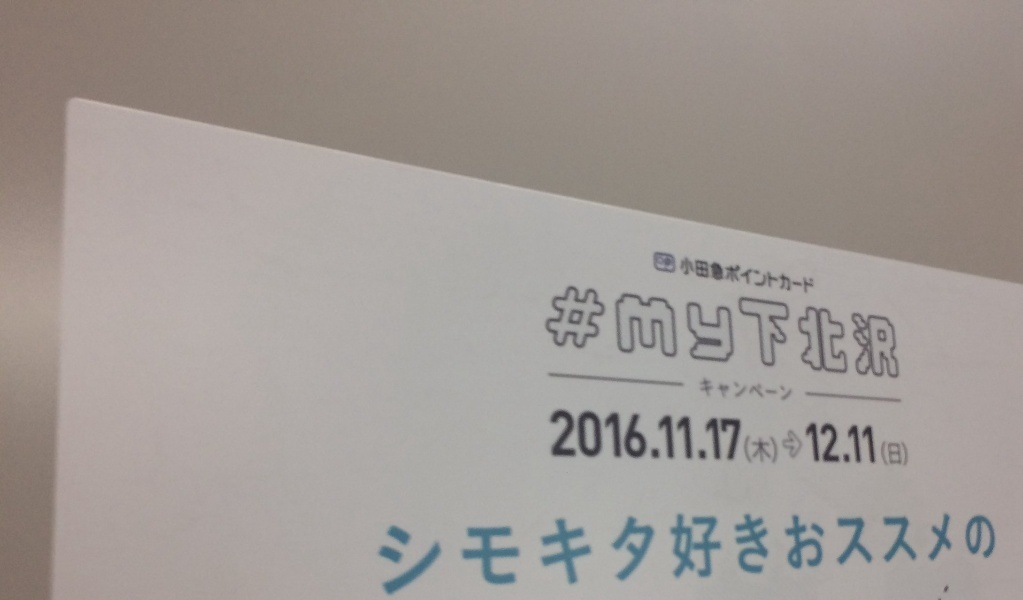text: (561, 275, 576, 379), (577, 275, 592, 379), (593, 275, 608, 379), (609, 275, 624, 379), (625, 275, 640, 379), (641, 275, 656, 379), (657, 275, 672, 379), (673, 275, 688, 379), (689, 275, 704, 379), (705, 275, 720, 379), (721, 275, 736, 379), (737, 275, 752, 379), (753, 275, 768, 379), (769, 275, 784, 379), (785, 275, 800, 379), (801, 275, 816, 379), (817, 275, 832, 379), (833, 275, 848, 379), (849, 275, 864, 379), (865, 275, 880, 379), (881, 275, 896, 379), (385, 508, 400, 599), (401, 508, 416, 599), (417, 508, 432, 599), (433, 508, 448, 599), (449, 508, 464, 599), (465, 508, 480, 599), (481, 508, 496, 599), (497, 508, 512, 599), (513, 508, 528, 599), (529, 508, 544, 599), (545, 508, 560, 599), (561, 508, 576, 599), (577, 508, 592, 599), (593, 508, 608, 599), (609, 508, 624, 599), (625, 508, 640, 599), (641, 508, 656, 599), (657, 508, 672, 599), (673, 508, 688, 599), (689, 508, 704, 599), (705, 508, 720, 599), (721, 508, 736, 599), (737, 508, 752, 599), (753, 508, 768, 599), (769, 508, 784, 599), (785, 508, 800, 599), (801, 508, 816, 599), (817, 508, 832, 599), (833, 508, 848, 599), (849, 508, 864, 599), (865, 508, 880, 599), (881, 508, 896, 599), (897, 508, 912, 599), (913, 508, 928, 599), (929, 508, 944, 599), (945, 508, 960, 599), (961, 508, 976, 599), (977, 508, 992, 599), (373, 508, 384, 599), (561, 408, 576, 460), (577, 408, 592, 460), (593, 408, 608, 460), (609, 408, 624, 460), (625, 408, 640, 460), (641, 408, 656, 460), (657, 408, 672, 460), (673, 408, 688, 460), (689, 408, 704, 460), (705, 408, 720, 460), (721, 408, 736, 460), (817, 422, 832, 463), (833, 422, 848, 463), (849, 422, 864, 463), (689, 255, 704, 294), (705, 255, 720, 294), (721, 255, 736, 294), (737, 255, 752, 294), (753, 255, 768, 294), (769, 255, 784, 294), (785, 255, 800, 294), (993, 508, 999, 599), (550, 408, 560, 460), (801, 255, 814, 294), (805, 422, 816, 463), (865, 422, 876, 463), (753, 435, 768, 463), (705, 376, 720, 401), (721, 376, 736, 401), (737, 376, 752, 401), (753, 376, 768, 401), (769, 376, 784, 401), (881, 441, 896, 466), (897, 441, 910, 466), (681, 255, 688, 294), (769, 435, 778, 463), (744, 435, 752, 463), (897, 275, 899, 379), (737, 408, 741, 460), (785, 376, 792, 401), (698, 376, 704, 401), (879, 441, 880, 466)
